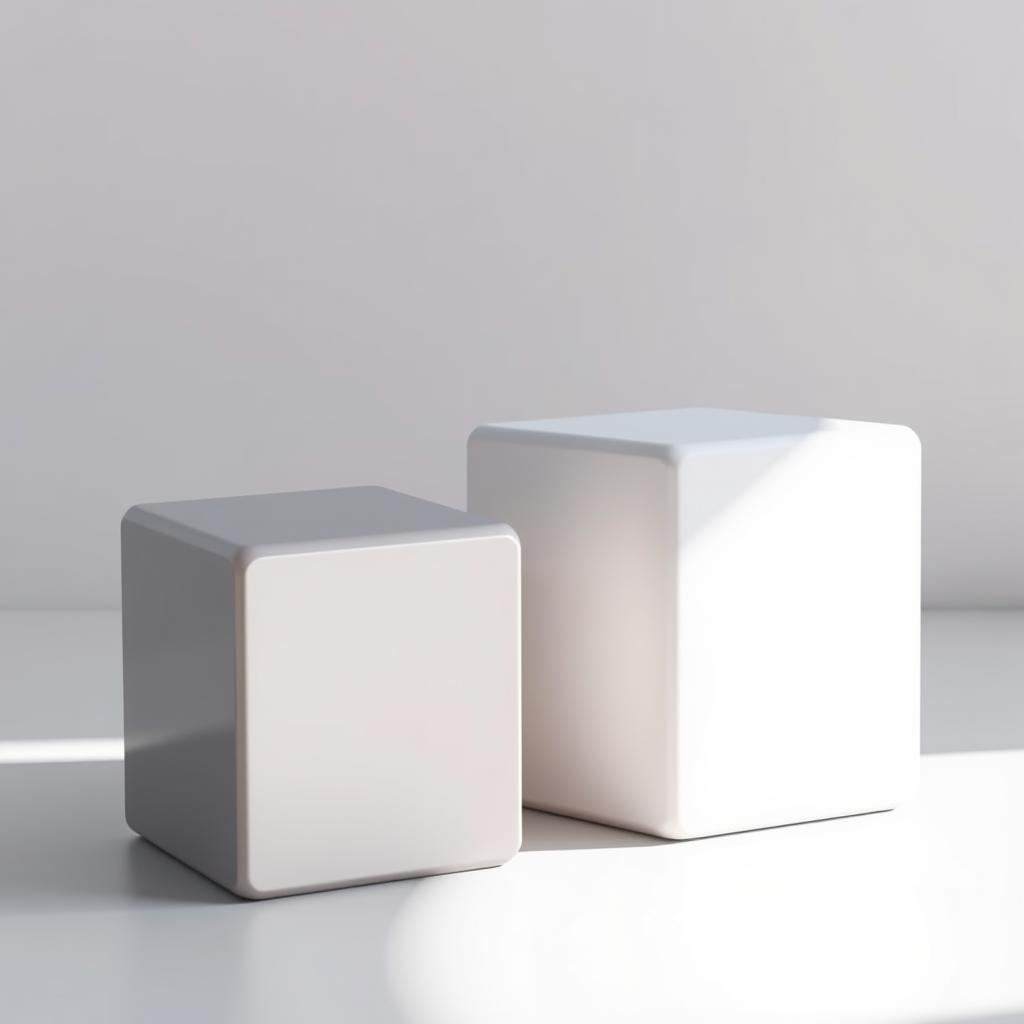cube: (465, 404, 922, 841), (119, 482, 523, 900)
